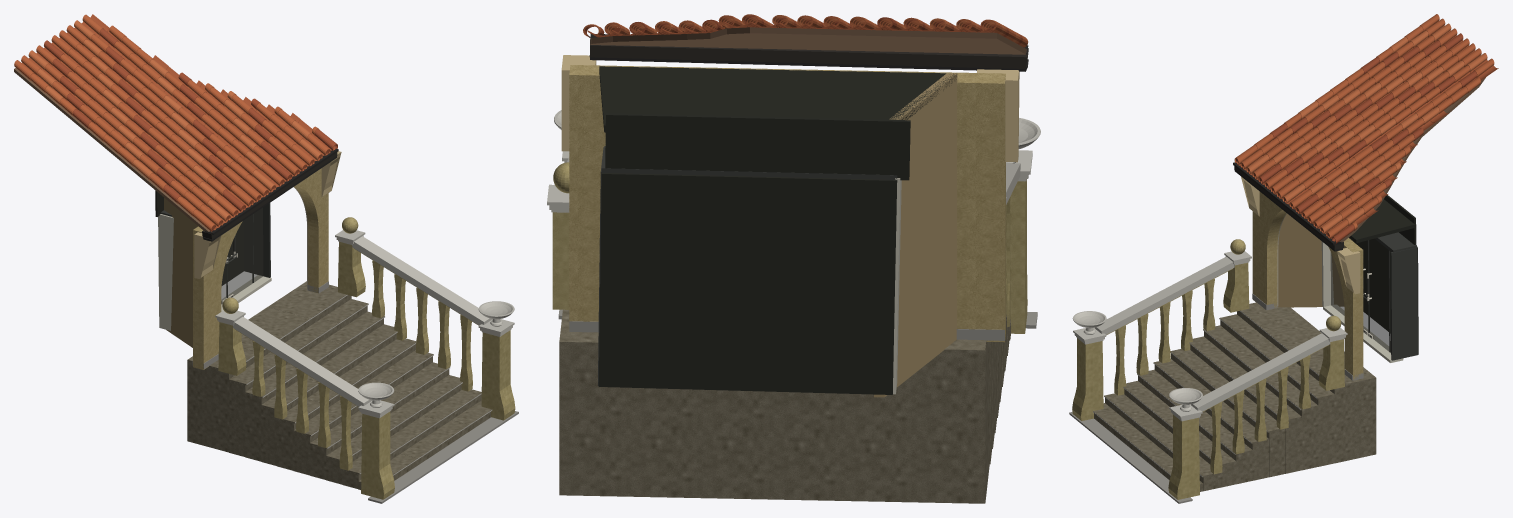
File: map-porch-web.glb
The picture shows the model from 3 angles, left to right: view 1: azimuth 30°, elevation 25°; view 2: azimuth 150°, elevation 25°; view 3: azimuth 270°, elevation 25°; orthographic projection. The views are drawn at different scales.
Parts seen in each view (by area): view 1: 长乐路325号院内弧窗与红瓦券廊; view 2: 长乐路325号院内弧窗与红瓦券廊; view 3: 长乐路325号院内弧窗与红瓦券廊.
Boxes of the visible parts, box(x1,y1,x2,y2) form: 长乐路325号院内弧窗与红瓦券廊: box(14, 14, 518, 503); 长乐路325号院内弧窗与红瓦券廊: box(547, 14, 1040, 503); 长乐路325号院内弧窗与红瓦券廊: box(1069, 14, 1498, 503).
Size of the model in its own units: 7.96 by 7.07 by 8.54.
Materials: 23 (3 with a texture image).
